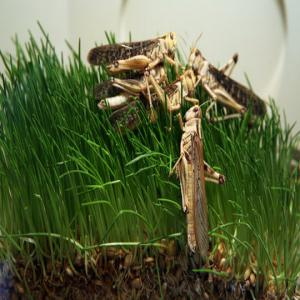locust: (176, 95, 222, 288), (88, 30, 184, 78)
